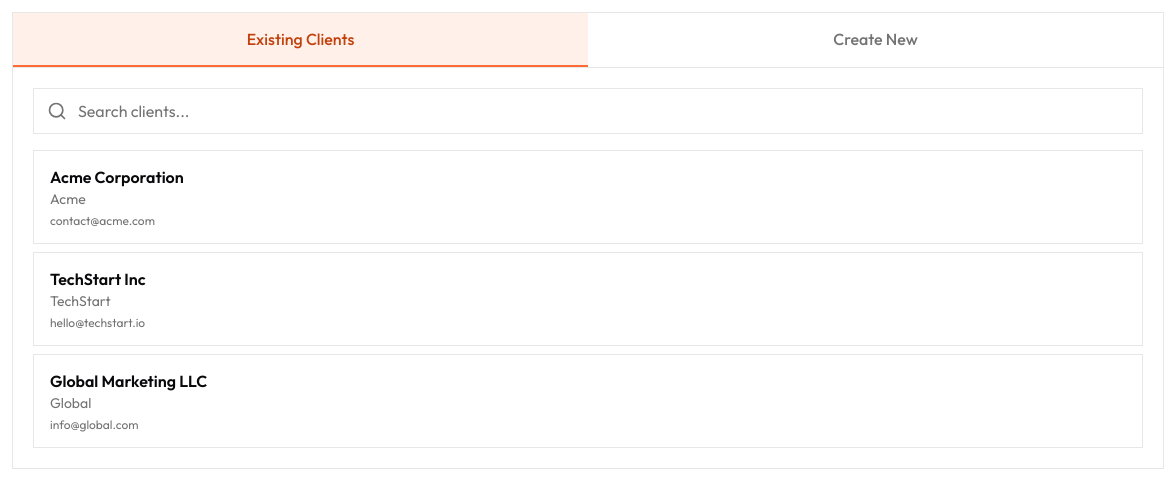
Phase 5: ClientSelector - TDD Tests › Client Search › should filter clients by search query
Expected: the text "Acme Corporation" is shown, x1=50 y1=167 x2=184 y2=187
Type "Acme" into the field with placeholder "Search clients..." at (588, 111), box x1=33 y1=88 x2=1143 y2=134
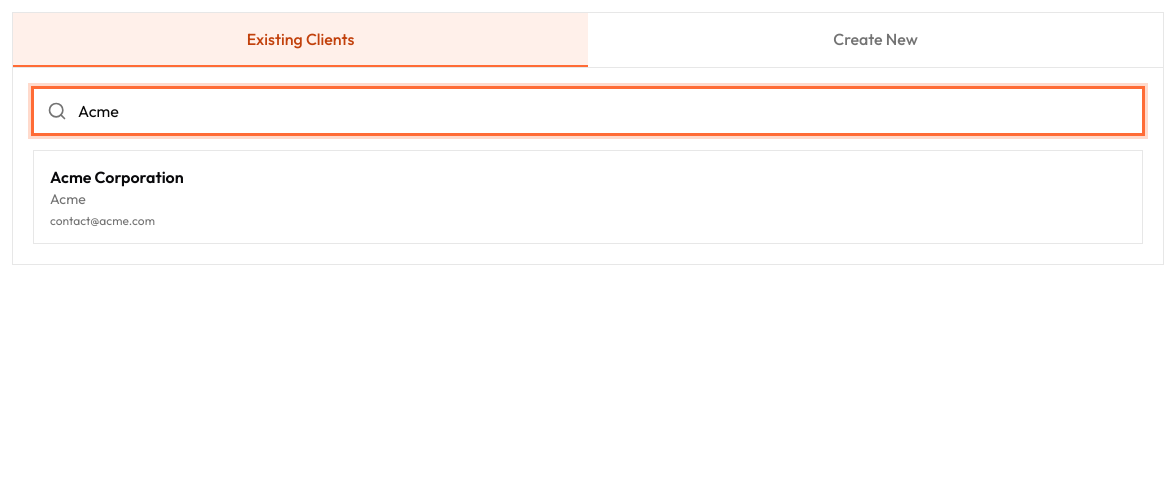
Expected: the text "Acme Corporation" is shown, x1=50 y1=167 x2=184 y2=187
Expected: the button "TechStart Inc" is gone
